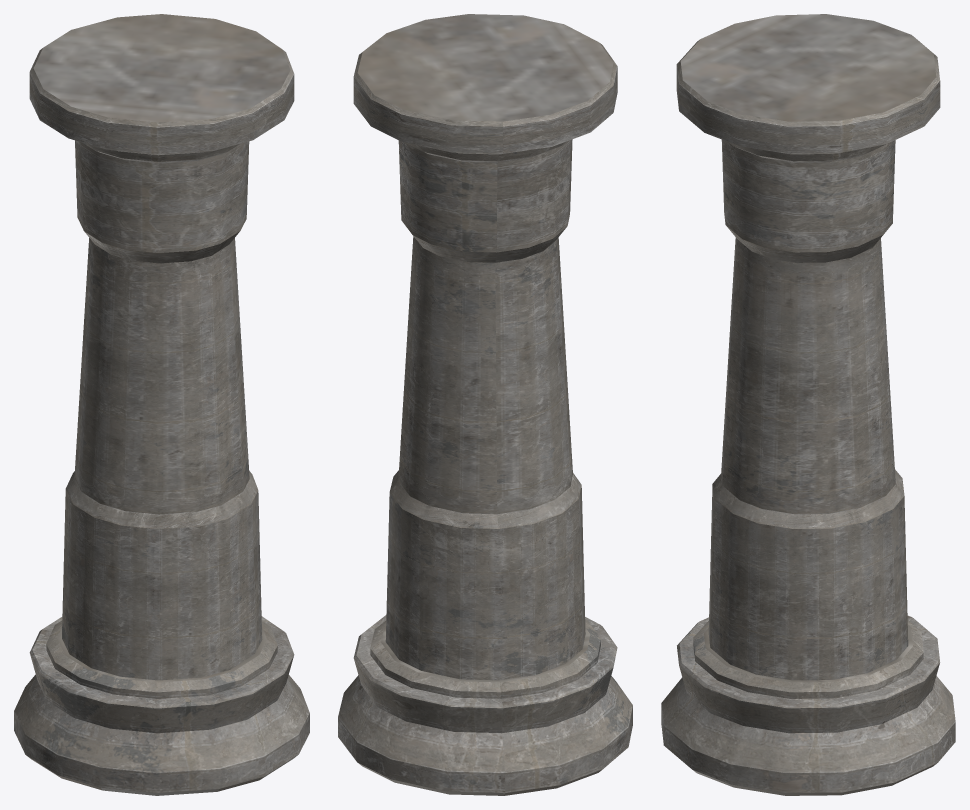
The model's file is FirePlacePiller.fbx.
The picture shows the model from 3 angles, left to right: view 1: azimuth 30°, elevation 25°; view 2: azimuth 150°, elevation 25°; view 3: azimuth 270°, elevation 25°; orthographic projection.
Visible parts, largest first — view 1: FirePlace_Holder.002; view 2: FirePlace_Holder.002; view 3: FirePlace_Holder.002.
Part boxes in pixels (x1,y1,x2,y2): FirePlace_Holder.002: [14, 14, 309, 795]; FirePlace_Holder.002: [338, 14, 632, 795]; FirePlace_Holder.002: [661, 14, 955, 795].
Bounding box in the file's own units: 348 × 138 × 139.
